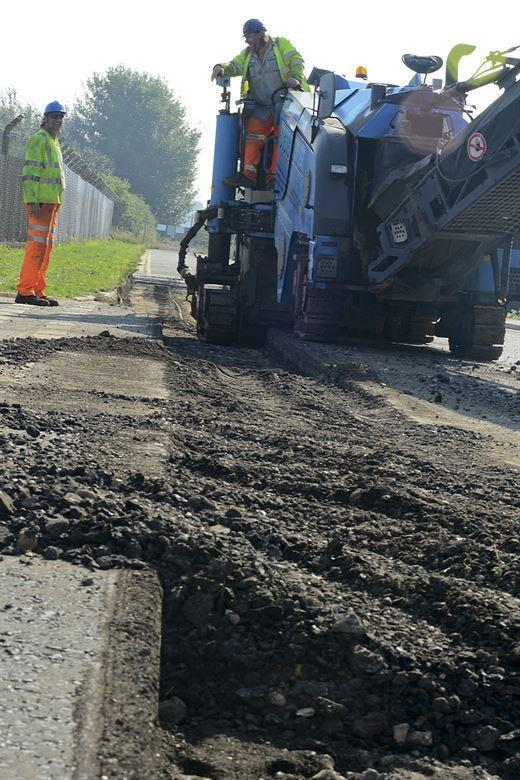vest: (236, 28, 298, 109), (20, 130, 66, 209)
